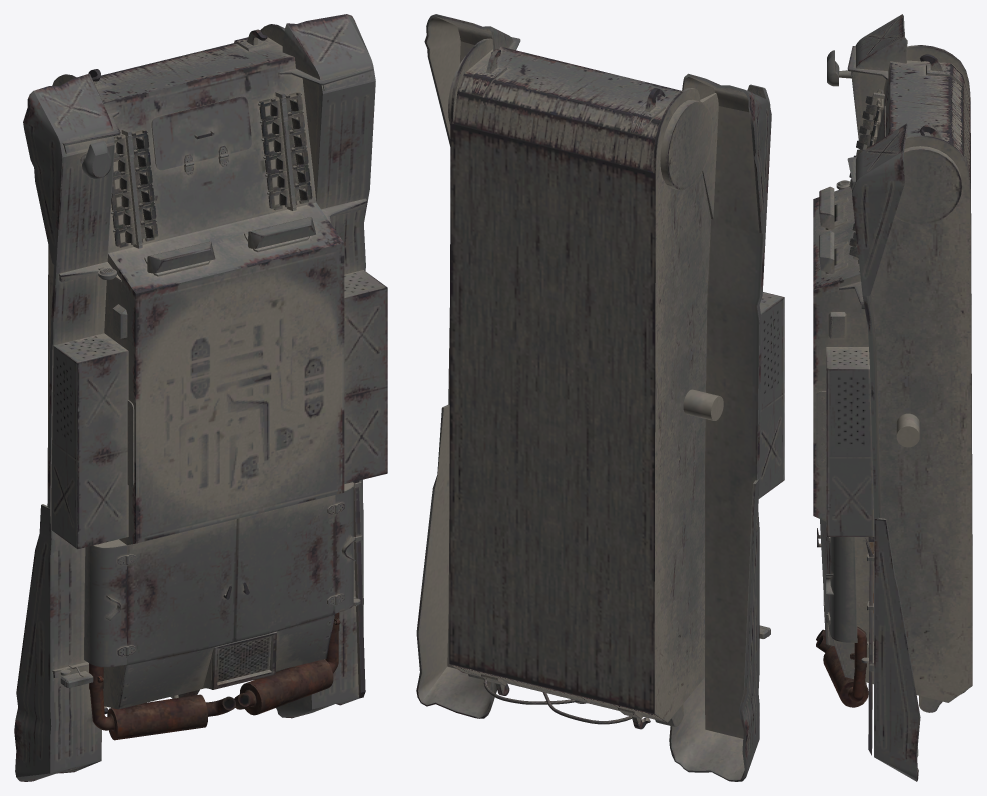
The model's file is Hull.glb.
3 renders of one model, left to right at view 1: azimuth 30°, elevation 25°; view 2: azimuth 150°, elevation 25°; view 3: azimuth 270°, elevation 25°, orthographic. The views are drawn at different scales.
Parts seen in each view (by area): view 1: set_0_group_0; view 2: set_0_group_0; view 3: set_0_group_0.
Boxes of the visible parts, x1,y1,x2,y2 form: set_0_group_0: (14, 14, 387, 781); set_0_group_0: (416, 14, 784, 781); set_0_group_0: (813, 14, 972, 781).
Size of the model in its own units: 2.3 by 4.6 by 1.05.
Materials: 1 (1 with a texture image).
